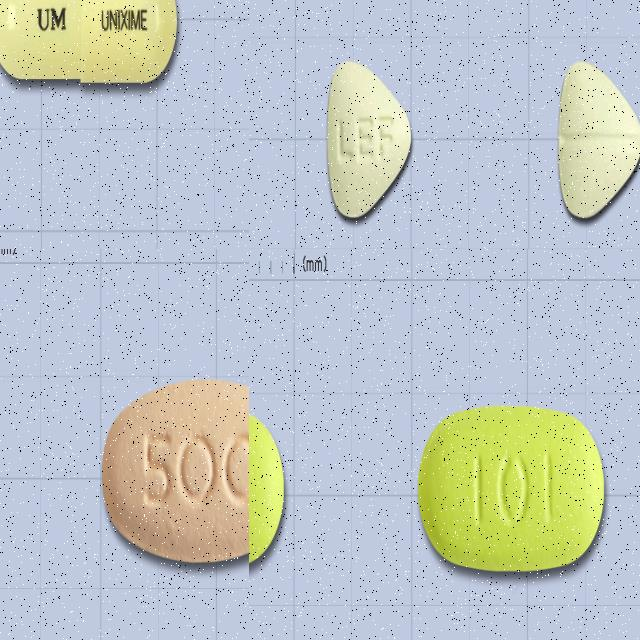Hanlim Leflunomide: (557, 58, 640, 224), (327, 62, 412, 222)
Highloxin: (101, 376, 249, 561)
Urolevo Tab: (0, 0, 178, 84)
Youngpoong Clarithromycin Tab: (418, 408, 606, 570)
